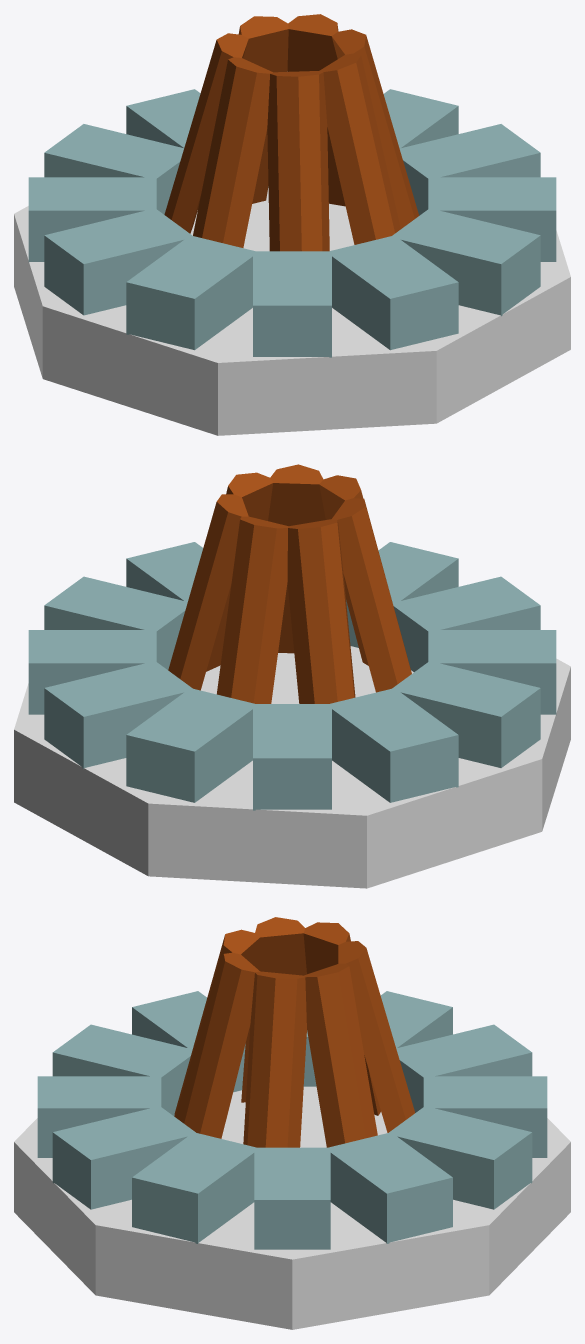
The model's file is bonfire_2.FBX.
The picture shows the model from 3 angles, top to bottom: view 1: azimuth 30°, elevation 25°; view 2: azimuth 150°, elevation 25°; view 3: azimuth 270°, elevation 25°; orthographic projection. The views are drawn at different scales.
Visible parts, largest first — view 1: bonfire_2; view 2: bonfire_2; view 3: bonfire_2.
Boxes of the visible parts, box(x1,y1,x2,y2) form: bonfire_2: box(14, 14, 570, 435); bonfire_2: box(14, 464, 570, 888); bonfire_2: box(14, 917, 570, 1329).
Bounding box in the file's own units: 1.58 × 0.8292 × 1.58.
Materials: 1 (1 with a texture image).
